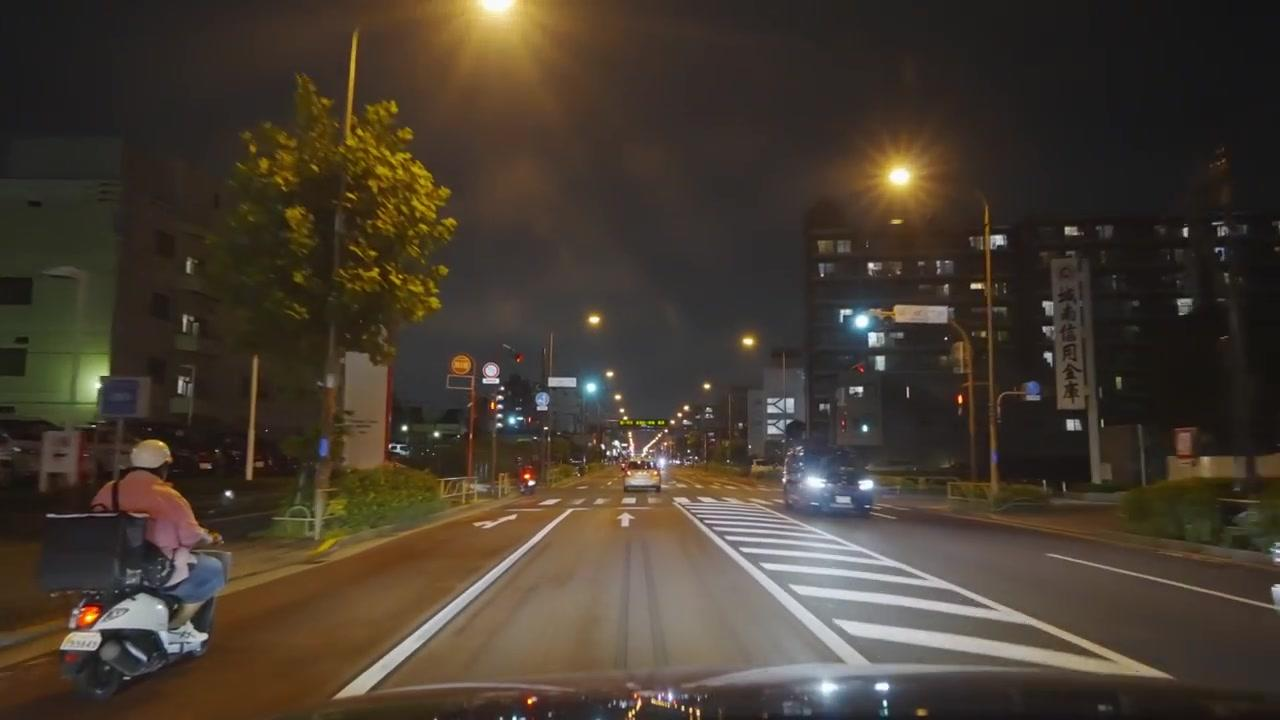car: (785, 448, 876, 518), (622, 463, 662, 498)
motorcycle: (52, 533, 224, 703)
person: (89, 439, 227, 644)
traffic light: (579, 372, 603, 400), (519, 468, 536, 494), (955, 390, 965, 416)
